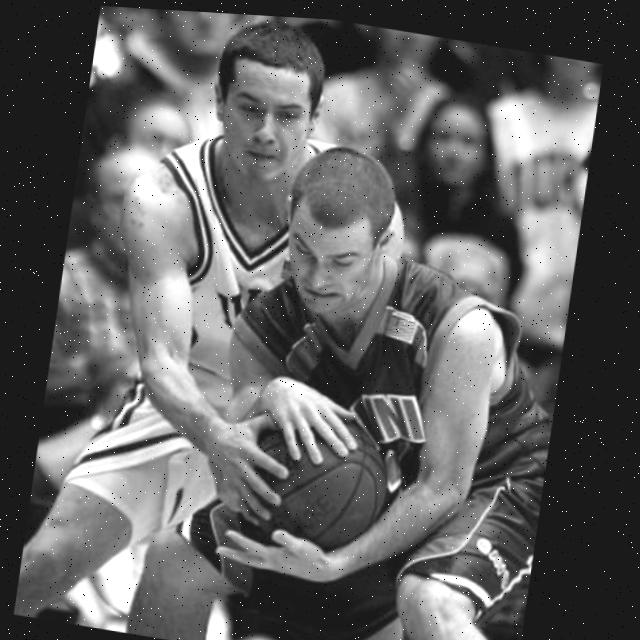face: (196, 30, 326, 199), (267, 163, 397, 332)
